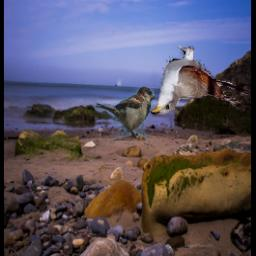Cuckoo: (151, 46, 250, 114)
Sparrow: (95, 86, 155, 141)
